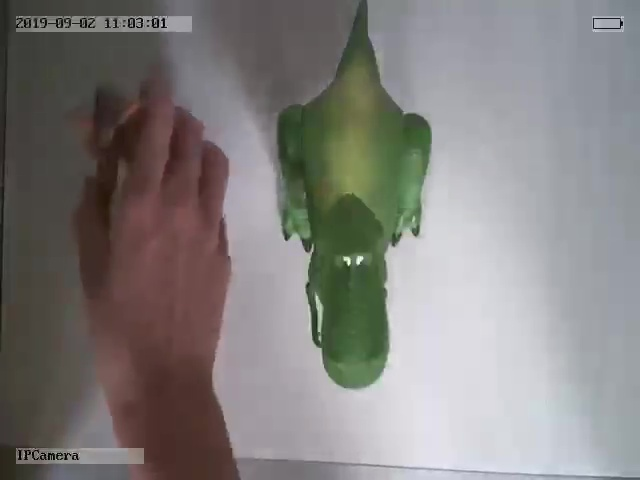rex: (275, 1, 433, 393)
